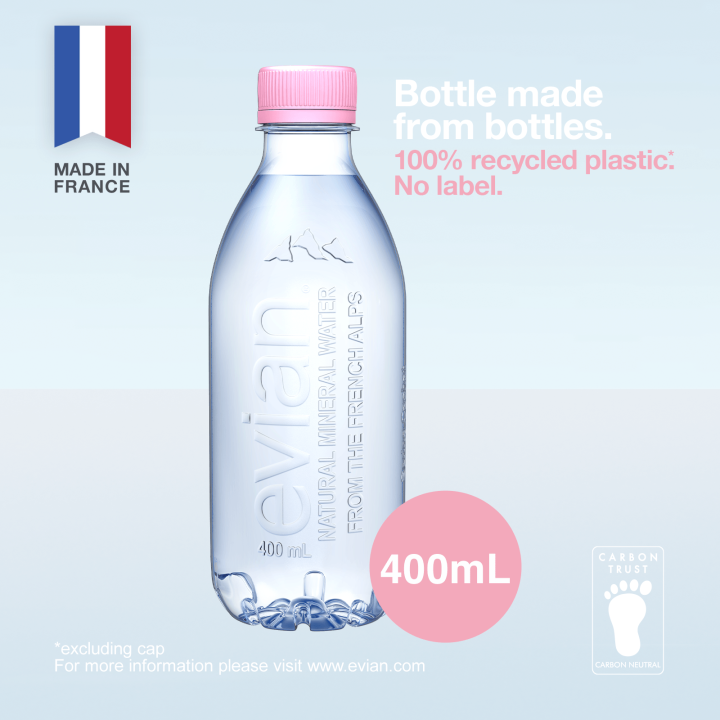PlasticBottle: (197, 66, 414, 623)
